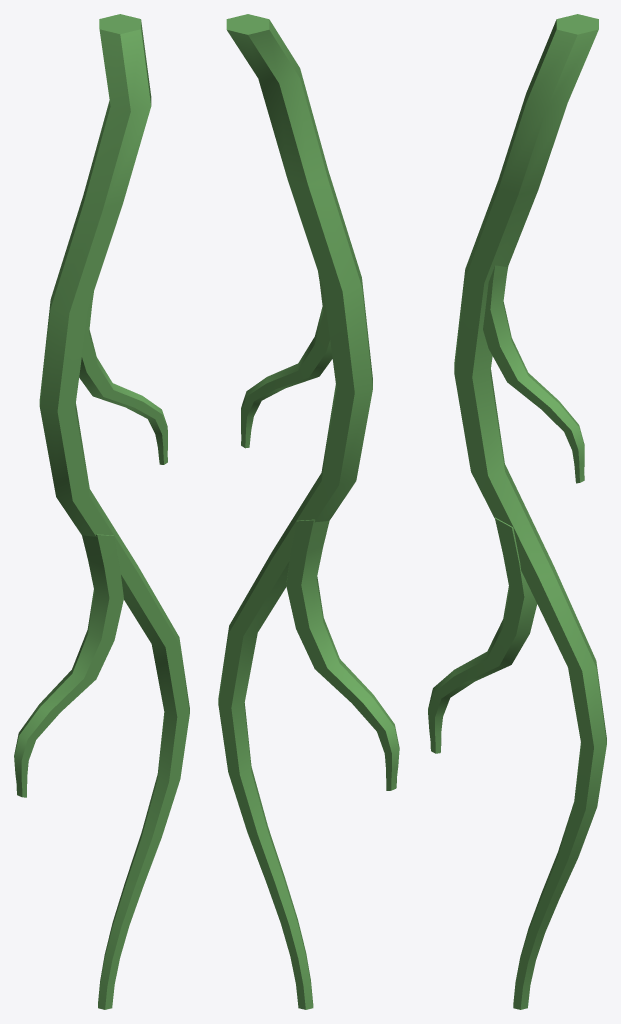
File: A_ThinVine1.fbx
The picture shows the model from 3 angles, left to right: view 1: azimuth 30°, elevation 25°; view 2: azimuth 150°, elevation 25°; view 3: azimuth 330°, elevation 25°; orthographic projection. The views are drawn at different scales.
Parts seen in each view (by area): view 1: ThinVine; view 2: ThinVine; view 3: ThinVine.
Boxes of the visible parts, x1,y1,x2,y2 form: ThinVine: [14, 14, 189, 1009]; ThinVine: [218, 14, 399, 1009]; ThinVine: [428, 14, 606, 1009].
Size of the model in its own units: 8.37 by 43.63 by 3.38.
